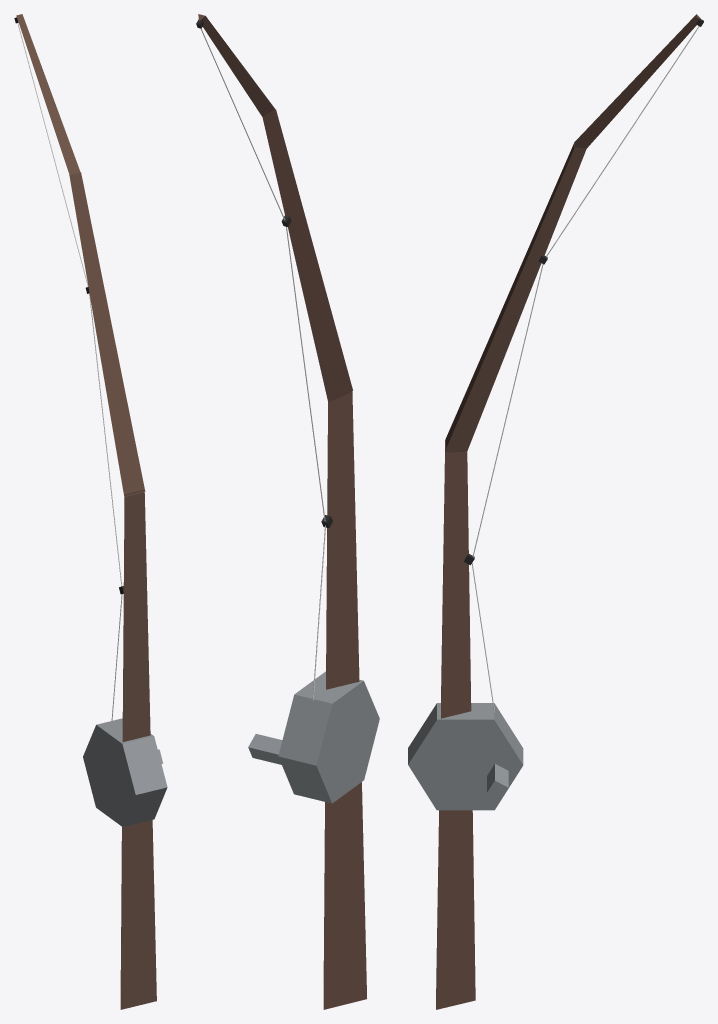
The model's file is WoodenFishingRod.fbx.
3 views of the same model, side by side, from view 1: azimuth 30°, elevation 25°; view 2: azimuth 150°, elevation 25°; view 3: azimuth 270°, elevation 25° (orthographic). The views are drawn at different scales.
Parts seen in each view (by area): view 1: Object.1, Object.2, Object.7, Object.8; view 2: Object.1, Object.2, Object.7, Object.3; view 3: Object.1, Object.2, Object.7.
Part boxes in pixels (x1,y1,x2,y2): Object.1: (16,14,156,1009); Object.2: (83,718,167,826); Object.7: (89,293,122,720); Object.8: (17,23,88,286); Object.1: (198,14,366,1009); Object.2: (278,671,379,803); Object.7: (286,226,325,700); Object.3: (248,734,282,764); Object.1: (436,14,701,1009); Object.2: (408,703,523,810); Object.7: (472,264,543,711).
Size of what is drawn, in the model's own units: 52.83 by 692 by 188.
